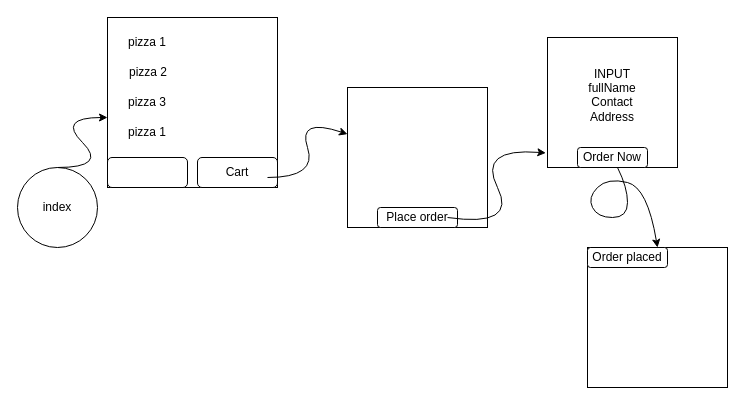
Some shapes in this 745 by 405 pixel diagram are drawn without their labels. The shapes that lost their labels are listed below. From the top down, each one's box as (x1, y1, x2, y2) in pixels, then its label:
(106, 156, 188, 188): pizza count, price
(346, 86, 488, 228): selected pizza list + modification to quantity
(586, 246, 728, 388): STATUS MAIN: Est Time order details Price and payment details.
